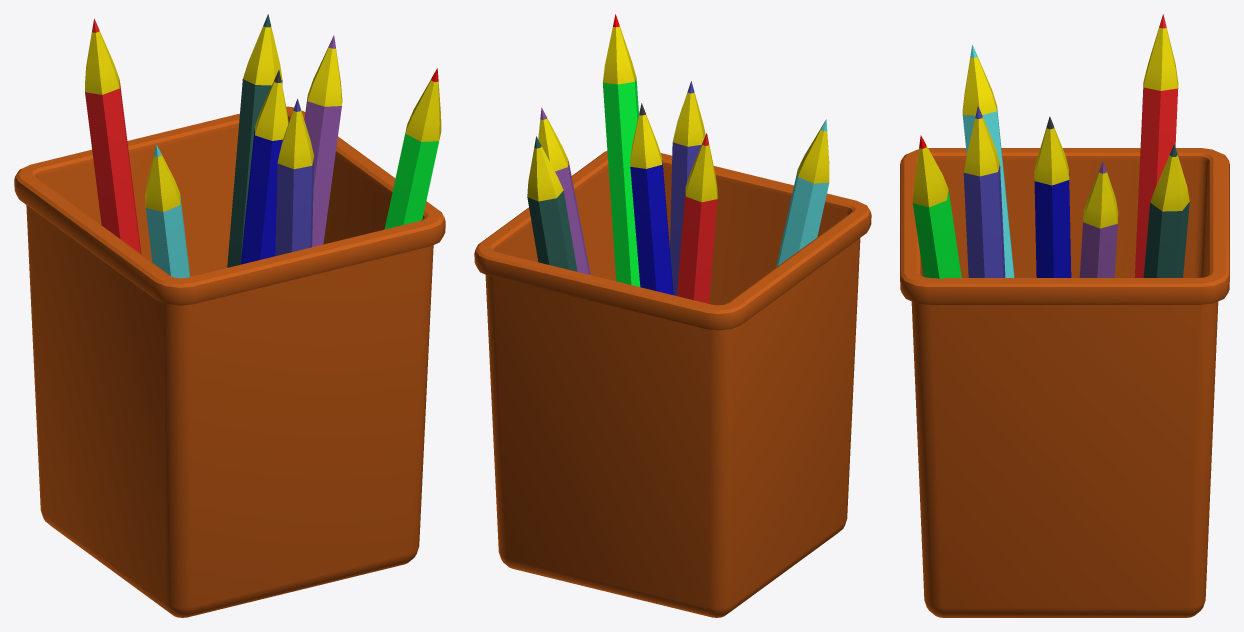
File: colors_mesh.FBX
The picture shows the model from 3 angles, left to right: view 1: azimuth 30°, elevation 25°; view 2: azimuth 150°, elevation 25°; view 3: azimuth 270°, elevation 25°; orthographic projection. The views are drawn at different scales.
Parts seen in each view (by area): view 1: Color_Box001; view 2: Color_Box001; view 3: Color_Box001.
Boxes of the visible parts, bbox=[...] form: Color_Box001: bbox=[14, 14, 445, 617]; Color_Box001: bbox=[474, 14, 871, 617]; Color_Box001: bbox=[900, 14, 1229, 617].
Size of the model in its own units: 17.26 by 29.31 by 17.26.
